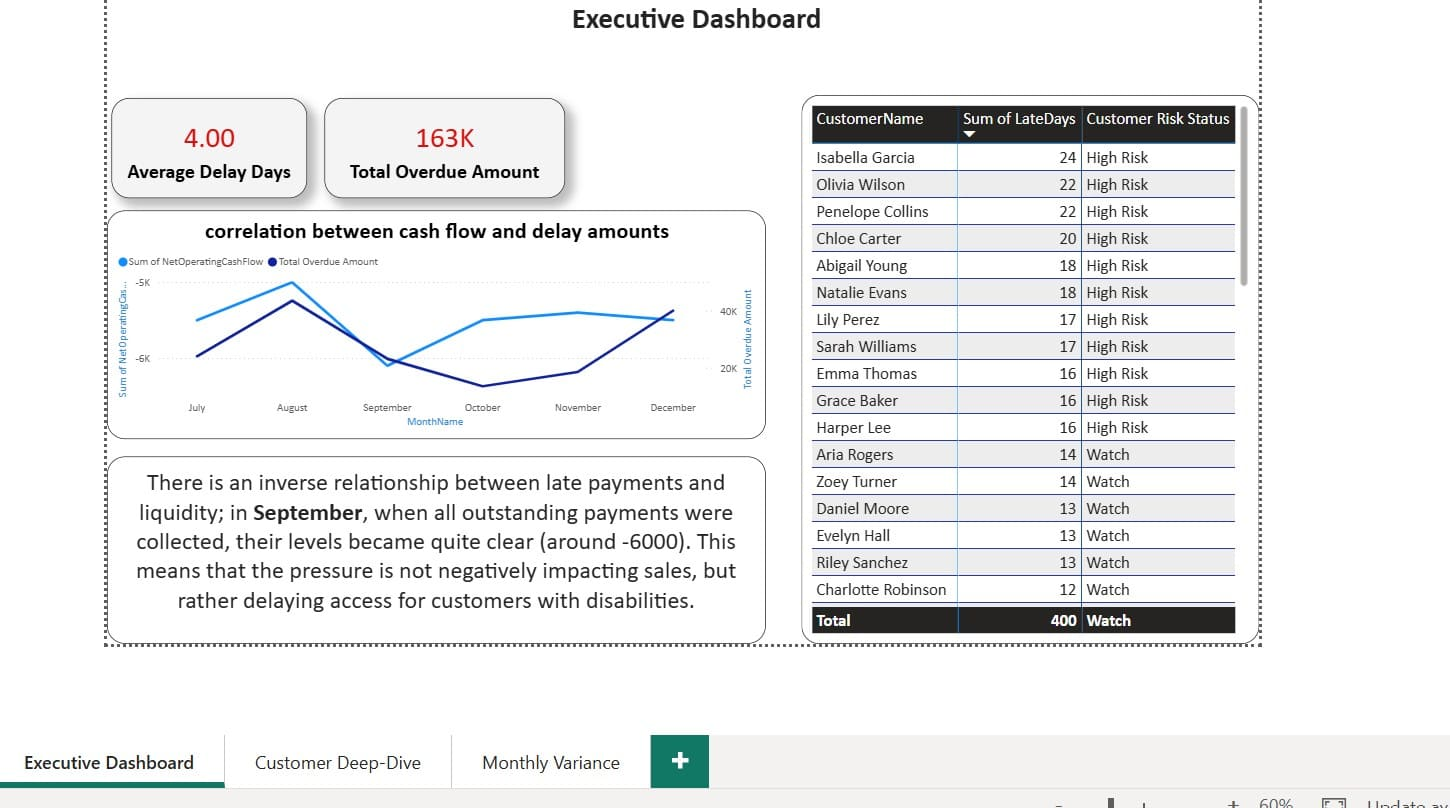

What the dashboard file says about the page in this screenshot:
{"tool":"powerbi","page":{"name":"Executive Dashboard","canvas":[1280,720],"ordinal":0},"visuals":[{"type":"card","fields":{"Values":["Fact_Payments.Average Delay Days"]},"box":[5.3,112.7,217.1,111.4],"z":0},{"type":"card","fields":{"Values":["Fact_Payments.Total Overdue Amount"]},"box":[241,112.7,267.1,111.4],"z":1000},{"type":"lineChart","title":"correlation between cash flow and delay amounts","fields":{"Category":["DimDate.MonthName"],"Y":["Fact_CashFlow.NetOperatingCashFlow"],"Y2":["Fact_Payments.Total Overdue Amount"]},"box":[0,238,732,254],"z":2000},{"type":"pivotTable","fields":{"Rows":["Customers.CustomerName"],"Values":["Fact_Payments.LateDays","Fact_Payments.Customer Risk Status"]},"box":[771.4,110,508.6,610],"z":3000},{"type":"textbox","box":[0,512,732,208],"z":4000},{"type":"textbox","box":[478.3,0,353.3,73.3],"z":5000}]}

Visuals, with their boxes on the page's 1280x720 design canvas (x1, y1, x2, y2). These are canvas units, not pixel positions in the 1450x808 screenshot, which may show the page scaled, cropped or inside an application window:
card - Fact_Payments.Average Delay Days: BBox(5, 113, 222, 224)
card - Fact_Payments.Total Overdue Amount: BBox(241, 113, 508, 224)
"correlation between cash flow and delay amounts" lineChart: BBox(0, 238, 732, 492)
pivotTable - Customers.CustomerName x Fact_Payments.LateDays: BBox(771, 110, 1280, 720)
textbox: BBox(0, 512, 732, 720)
textbox: BBox(478, 0, 832, 73)
